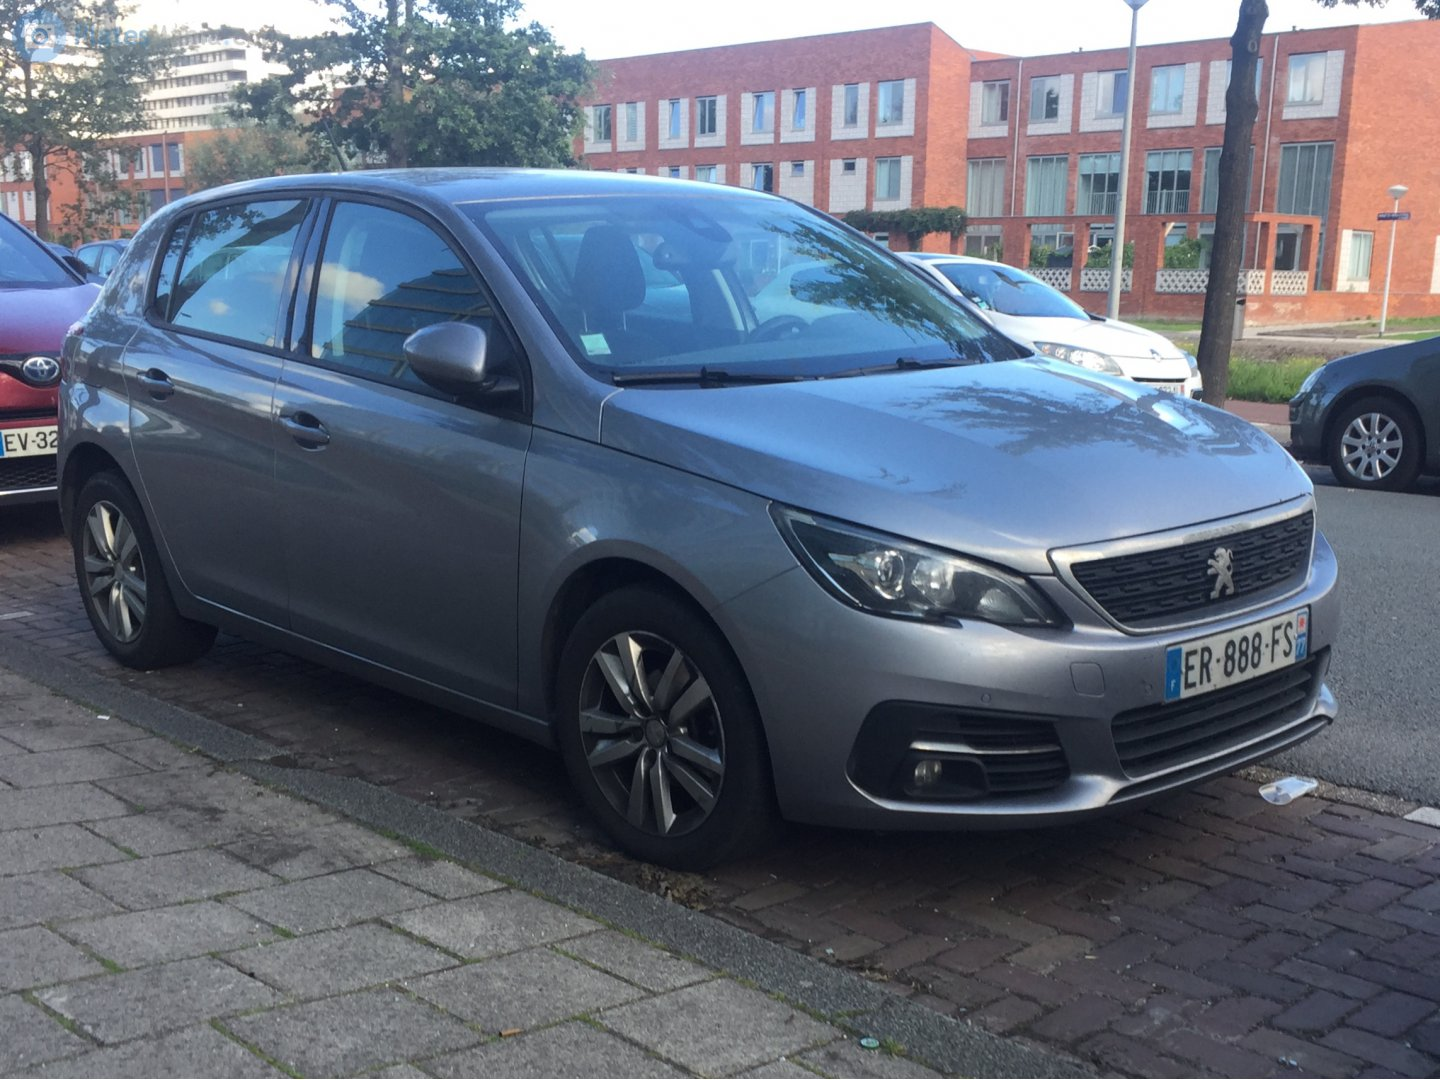licence plate: (1157, 601, 1315, 709)
